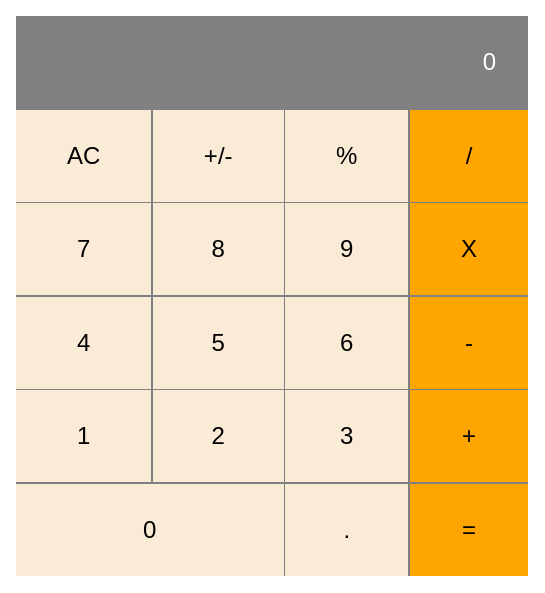
Test: last operation button rendered
Click the button with test id "no-1".
click(84, 436)  # box x1=16 y1=390 x2=151 y2=482
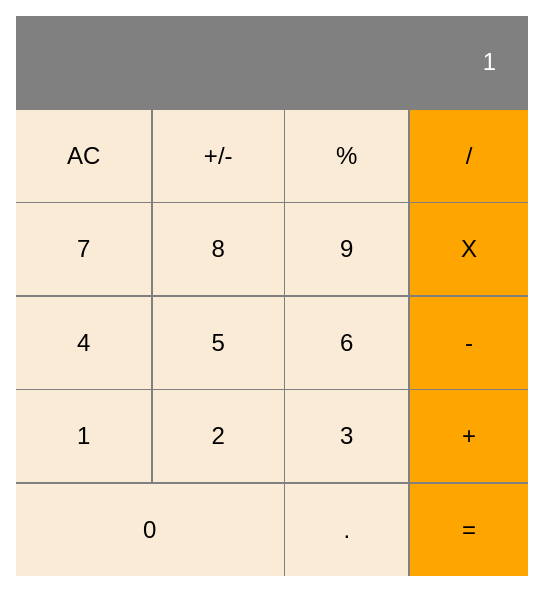
Click the button with test id "-".
click(469, 343)  # box x1=410 y1=297 x2=528 y2=389
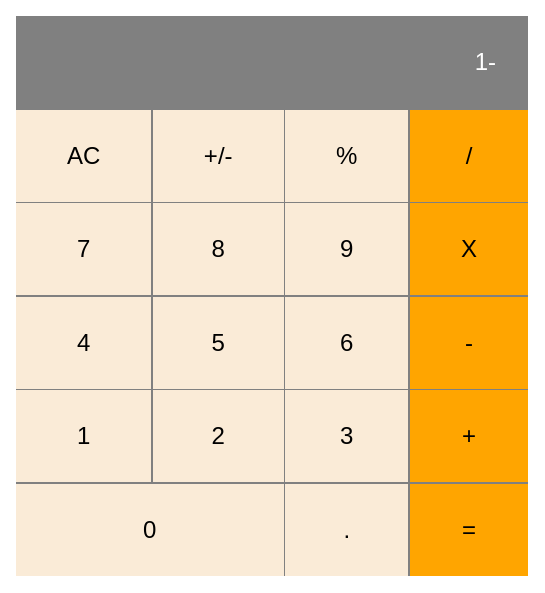
Click the button with test id "/".
click(469, 156)  # box x1=410 y1=110 x2=528 y2=202
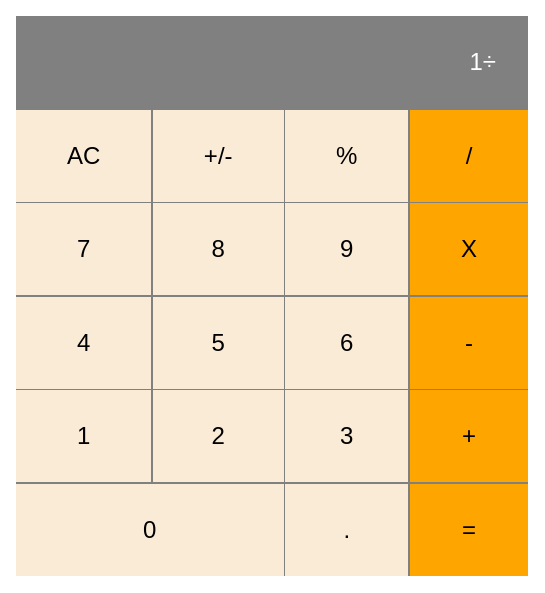
Click the button with test id "X".
click(469, 249)  # box x1=410 y1=203 x2=528 y2=295
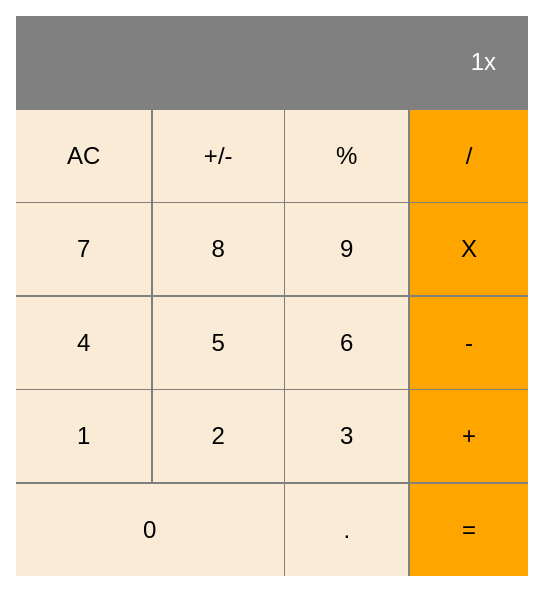
Now the text with test id "result" reads "1x", box x1=16 y1=16 x2=528 y2=108
